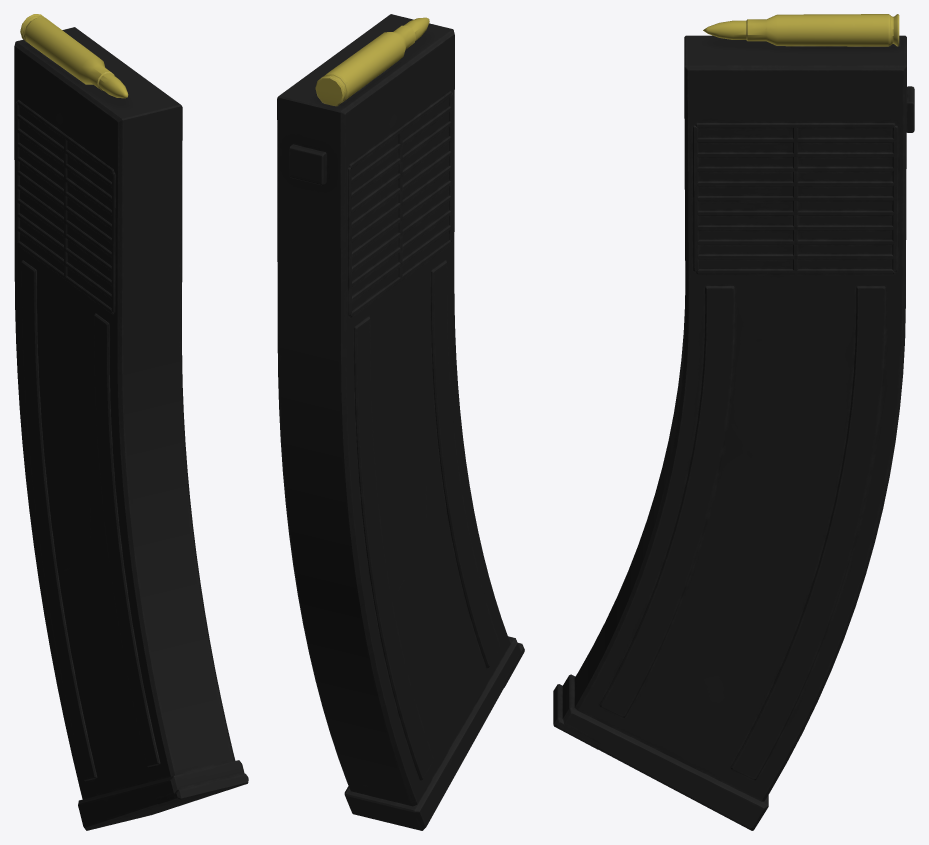
File: Mag_M4A1_Ext.fbx
3 renders of one model, left to right at view 1: azimuth 30°, elevation 25°; view 2: azimuth 150°, elevation 25°; view 3: azimuth 270°, elevation 25°, orthographic. The views are drawn at different scales.
Visible parts, largest first — view 1: Body; view 2: Body; view 3: Body.
Part boxes in pixels (box(x1,y1,x2,y2)): Body: box(14, 14, 248, 830); Body: box(277, 14, 524, 830); Body: box(553, 14, 914, 830).
Size of the model in its own units: 0.025 by 0.2548 by 0.1054.
